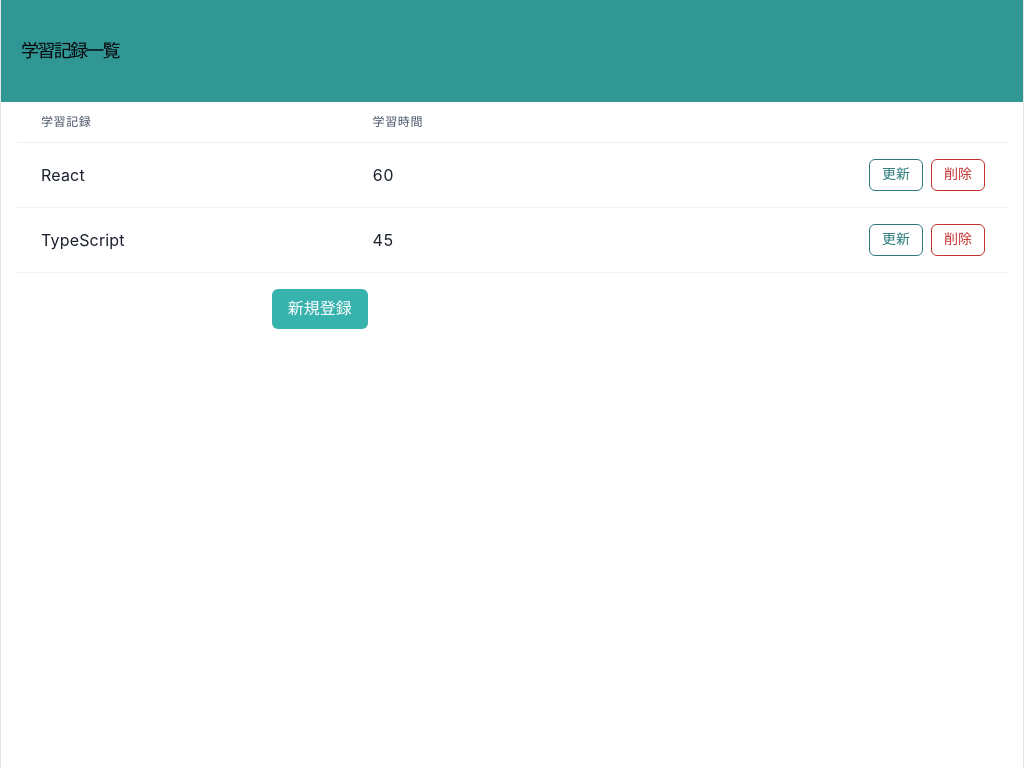
StudyRecords › 新規登録モーダルを開ける
What coordinates should you click on to do the following:
click the button "新規登録"
I would click on:
 (320, 309)
Its box is [272,289,368,329].
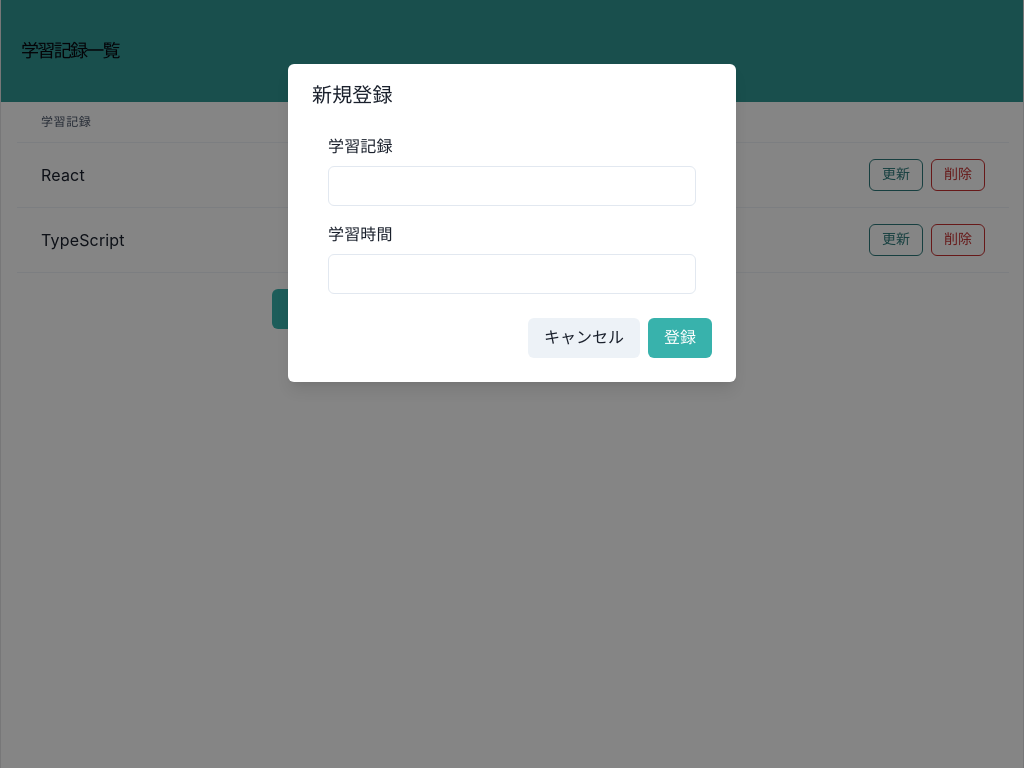
Expected: the text "新規登録" is shown, [312,83,393,107]
